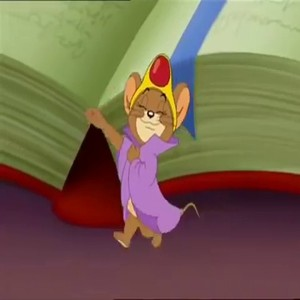Jerry: (86, 53, 204, 248)
